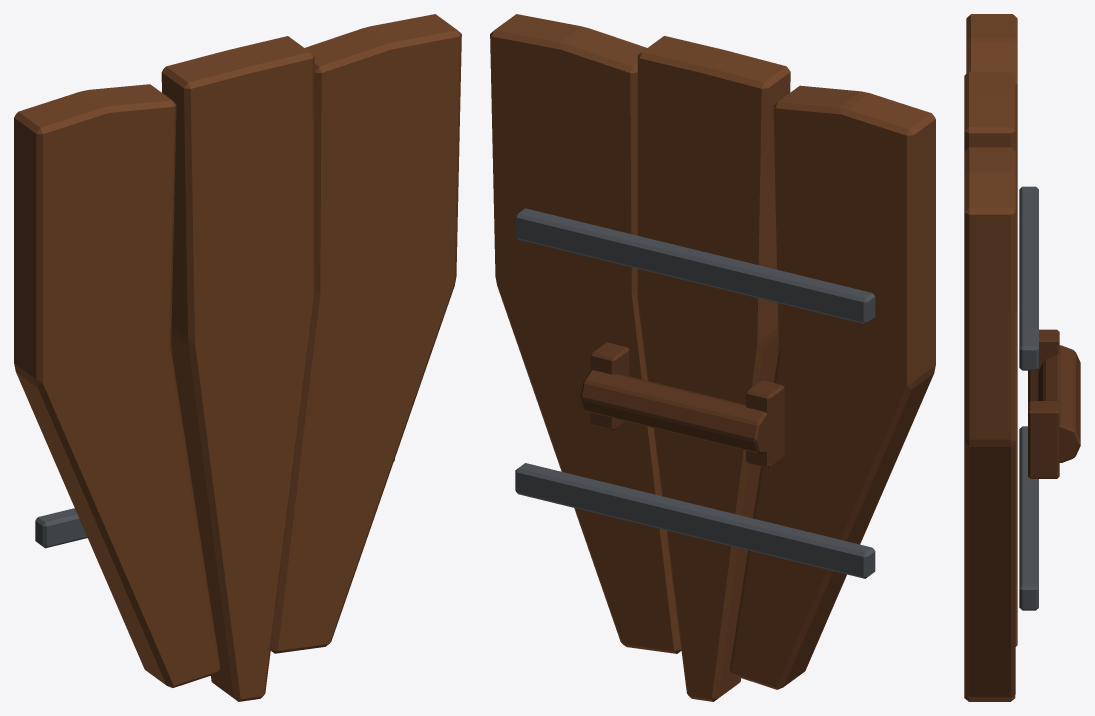
The model's file is shield_wood_poor_4_ai.glb.
3 renders of one model, left to right at view 1: azimuth 30°, elevation 25°; view 2: azimuth 150°, elevation 25°; view 3: azimuth 270°, elevation 25°, orthographic. The views are drawn at different scales.
Parts seen in each view (by area): view 1: Shield_Plank_01, Shield_Plank_02, Shield_Plank_03, Shield_Iron_Bar_Bottom; view 2: Shield_Plank_01, Shield_Plank_03, Shield_Plank_02, Shield_Iron_Bar_Top, Shield_Iron_Bar_Bottom, Shield_Leather_Grip, Shield_Leather_Handle_Mount_Left, Shield_Leather_Handle_Mount_Right; view 3: Shield_Plank_03, Shield_Plank_02, Shield_Plank_01, Shield_Iron_Bar_Top, Shield_Leather_Grip, Shield_Iron_Bar_Bottom, Shield_Leather_Handle_Mount_Right, Shield_Leather_Handle_Mount_Left.
Boxes of the visible parts, <box> form: Shield_Plank_01: <box>14,84,220,687</box>; Shield_Plank_02: <box>161,36,314,701</box>; Shield_Plank_03: <box>270,14,461,653</box>; Shield_Iron_Bar_Bottom: <box>35,459,394,548</box>; Shield_Plank_01: <box>729,85,935,689</box>; Shield_Plank_03: <box>490,14,681,653</box>; Shield_Plank_02: <box>637,36,790,701</box>; Shield_Iron_Bar_Top: <box>515,208,875,324</box>; Shield_Iron_Bar_Bottom: <box>515,463,875,578</box>; Shield_Leather_Grip: <box>580,370,767,453</box>; Shield_Leather_Handle_Mount_Left: <box>746,380,784,468</box>; Shield_Leather_Handle_Mount_Right: <box>590,342,629,430</box>; Shield_Plank_03: <box>964,147,1015,697</box>; Shield_Plank_02: <box>964,71,1015,701</box>; Shield_Plank_01: <box>966,14,1017,646</box>; Shield_Iron_Bar_Top: <box>1019,186,1038,370</box>; Shield_Leather_Grip: <box>1038,345,1080,462</box>; Shield_Iron_Bar_Bottom: <box>1019,426,1038,610</box>; Shield_Leather_Handle_Mount_Right: <box>1028,401,1059,478</box>; Shield_Leather_Handle_Mount_Left: <box>1028,329,1059,402</box>.
Bounding box in the file's own units: 0.5865 × 0.8381 × 0.148.
